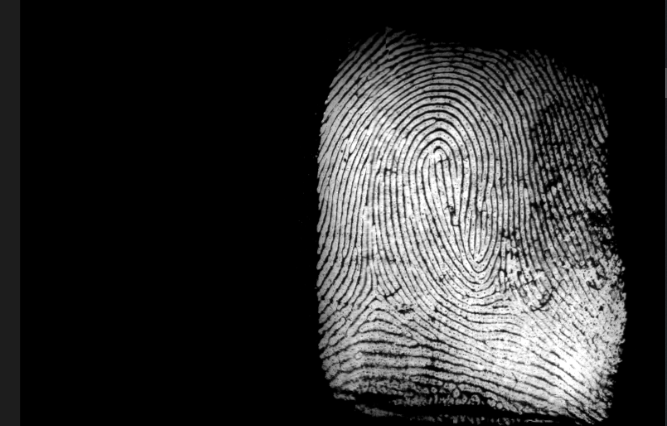nucelo: (424, 140, 459, 184)
verticilo: (498, 284, 524, 309), (362, 281, 387, 306)
